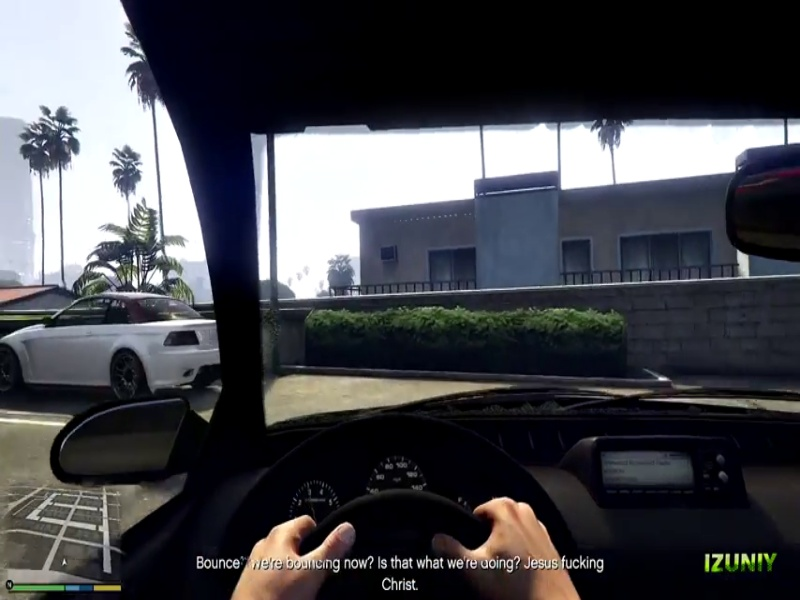human: (216, 425, 581, 596)
